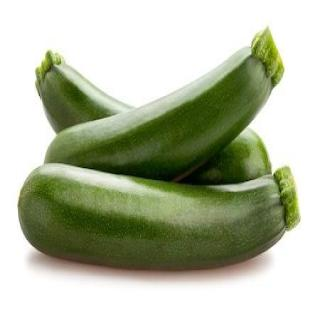Zucchini: (45, 29, 283, 179), (18, 165, 299, 269), (36, 52, 131, 131), (183, 129, 271, 184)
